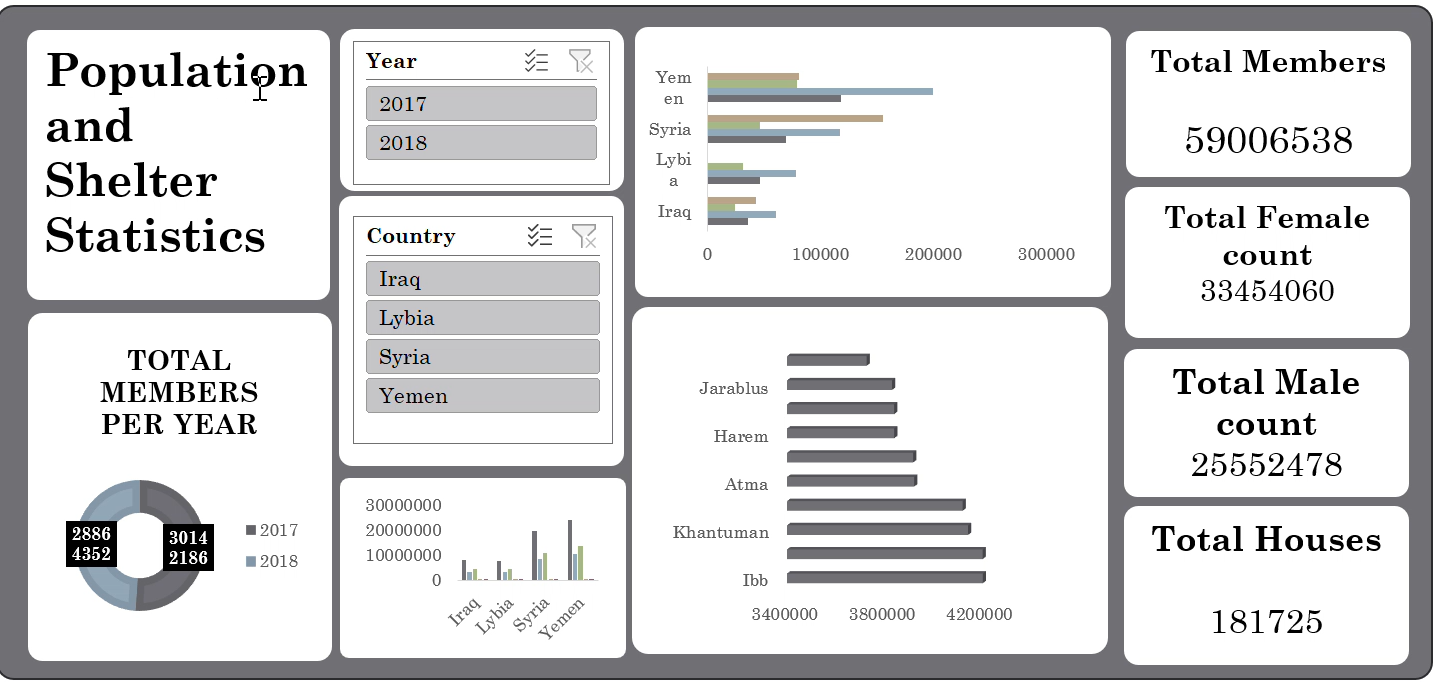

Layout of this report page (visuals, bound fields, positions):
{"tool":"powerbi","page":{"name":"Page 1","canvas":[1920,1080],"ordinal":0},"visuals":[{"type":"cardVisual","title":"Total Members","fields":{"Data":["campdata.Total_members"]},"box":[0,0,392.9,231.7],"z":0},{"type":"cardVisual","title":"Total Female","fields":{"Data":["campdata.Total_female"]},"box":[763.2,0,392.9,231.7],"z":1},{"type":"cardVisual","title":"Total Male","fields":{"Data":["campdata.Total_male"]},"box":[1526.3,0,392.9,231.7],"z":2},{"type":"cardVisual","title":"Female %","fields":{"Data":["campdata.Female%"]},"box":[392.9,0,392.9,231.7],"z":3},{"type":"cardVisual","title":"Male %","fields":{"Data":["campdata.Male%"]},"box":[1156.1,0,392.9,231.7],"z":4},{"type":"hundredPercentStackedColumnChart","fields":{"Category":["country.Country"],"Y":["Sum(campdata.Houses)","Sum(campdata.Flat)","Sum(campdata.Room)","Sum(campdata.Tent)"]},"box":[0,231.7,763.2,499.7],"z":5},{"type":"donutChart","fields":{"Category":["campdata.Country"],"Y":["campdata.Total_female","campdata.Total_male"]},"box":[0,731.4,763,338],"z":6},{"type":"scatterChart","fields":{"Series":["campdata.City"],"X":["campdata.Total_female"],"Y":["campdata.Total_male"]},"box":[763.2,231.7,613.3,499.7],"z":7},{"type":"ribbonChart","fields":{"Category":["campdata.Country"],"Y":["Sum(campdata.Flat)","Sum(campdata.Houses)","Sum(campdata.Room)","Sum(campdata.Tent)"]},"box":[763.2,731.4,613.3,347.5],"z":8},{"type":"tableEx","fields":{"Values":["campdata.Country","Sum(campdata.Flat)","Sum(campdata.Room)","Sum(campdata.Tent)","Sum(campdata.Houses)"]},"box":[1376.4,231.7,542.8,229.4],"z":9},{"type":"barChart","fields":{"Category":["campdata.Country"],"Y":["Sum(campdata.Flat)","Sum(campdata.Houses)","Sum(campdata.Room)","Sum(campdata.Tent)"]},"box":[1376.4,461.1,542.8,318],"z":10},{"type":"textbox","box":[1376.4,779.1,542.8,299.8],"z":11}]}

Visuals, with their boxes on the page's 1920x1080 design canvas (x1, y1, x2, y2). These are canvas units, not pixel positions in the 1441x688 screenshot, which may show the page scaled, cropped or inside an application window:
"Total Members" cardVisual: (0, 0, 393, 232)
"Total Female" cardVisual: (763, 0, 1156, 232)
"Total Male" cardVisual: (1526, 0, 1919, 232)
"Female %" cardVisual: (393, 0, 786, 232)
"Male %" cardVisual: (1156, 0, 1549, 232)
hundredPercentStackedColumnChart - country.Country x Sum(campdata.Houses): (0, 232, 763, 731)
donutChart - campdata.Country x campdata.Total_female: (0, 731, 763, 1069)
scatterChart - campdata.City x campdata.Total_female: (763, 232, 1376, 731)
ribbonChart - campdata.Country x Sum(campdata.Flat): (763, 731, 1376, 1079)
tableEx - campdata.Country x Sum(campdata.Flat): (1376, 232, 1919, 461)
barChart - campdata.Country x Sum(campdata.Flat): (1376, 461, 1919, 779)
textbox: (1376, 779, 1919, 1079)
